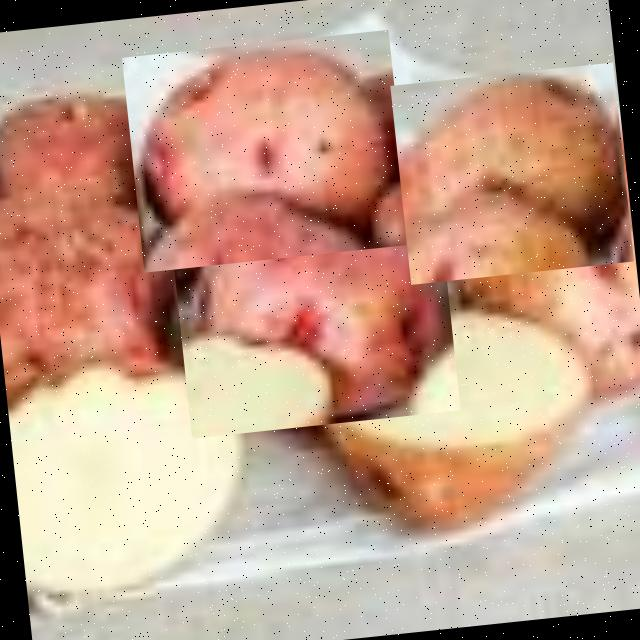Diseased-fungal potato: (167, 177, 460, 438), (122, 29, 410, 272), (390, 62, 634, 284)
